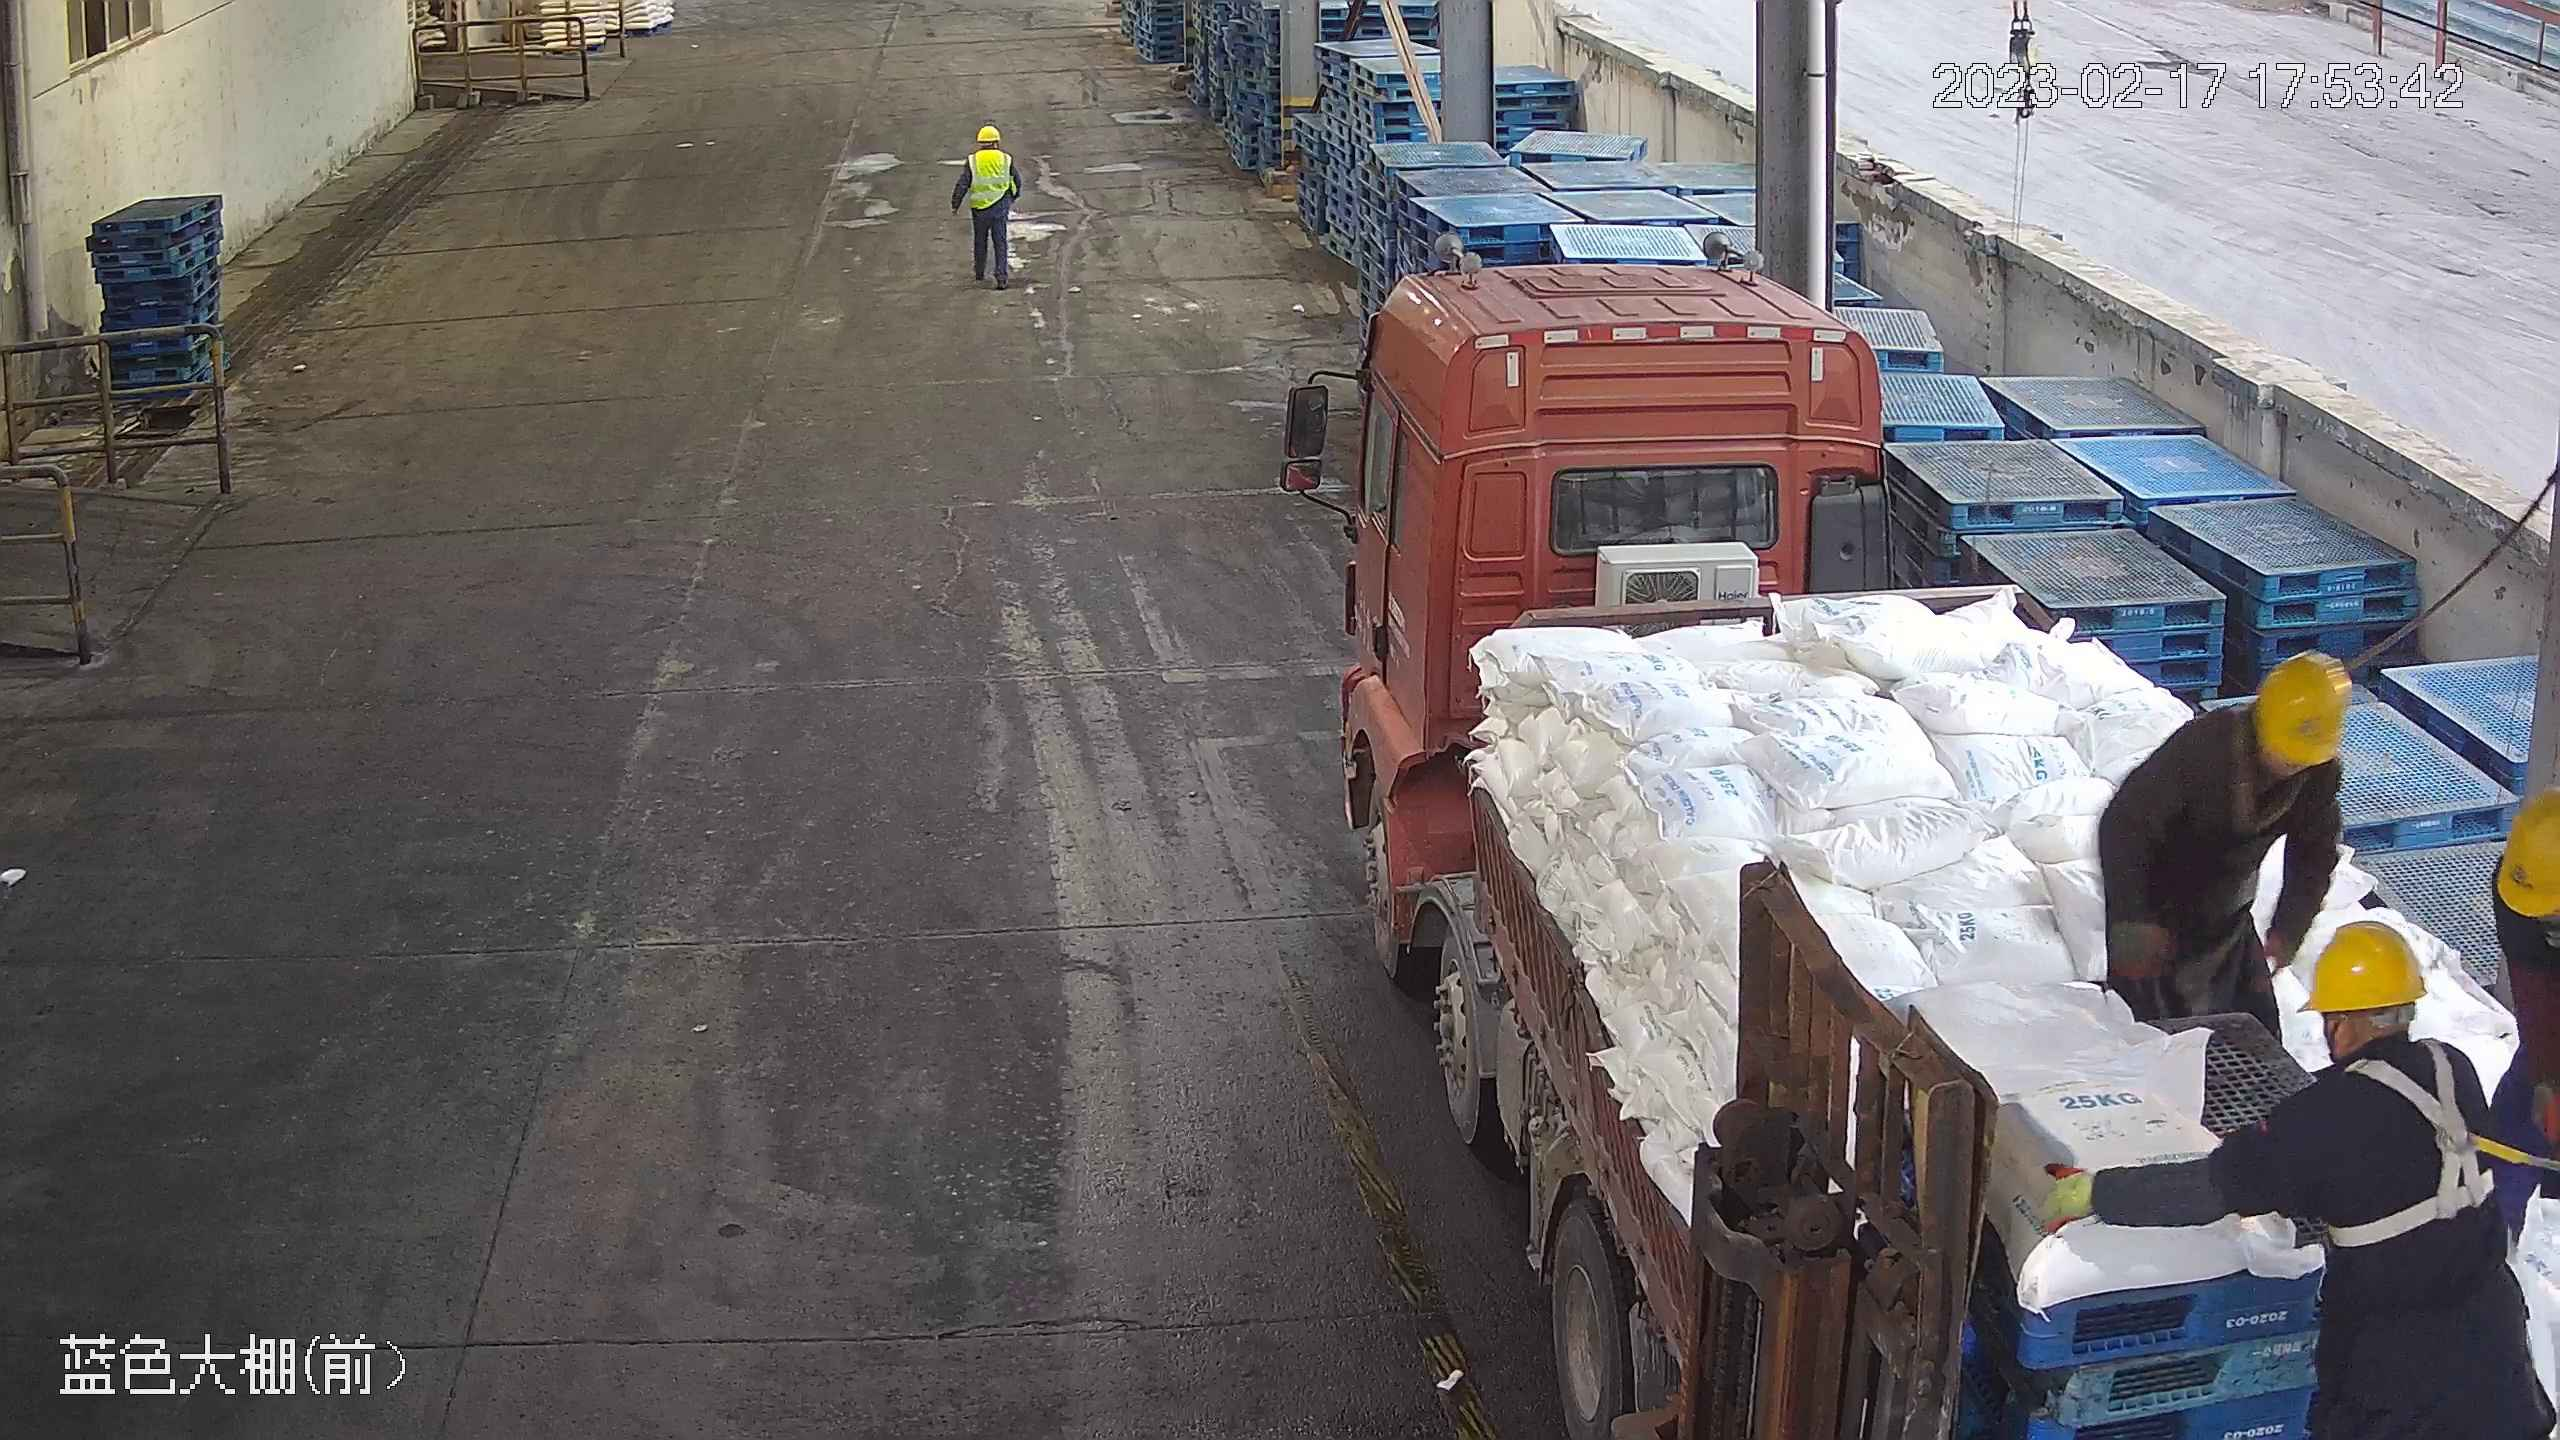belt: (2307, 1037, 2520, 1246), (2219, 701, 2305, 824)
head: (2275, 918, 2496, 1140), (2171, 650, 2351, 803), (954, 122, 1019, 176)
helmet: (2302, 918, 2430, 1012), (2258, 648, 2349, 763), (2489, 783, 2560, 920), (975, 123, 1002, 144)
people: (2038, 918, 2557, 1440), (2093, 651, 2353, 1053), (948, 121, 1025, 288)
truck: (1283, 230, 2558, 1440)
